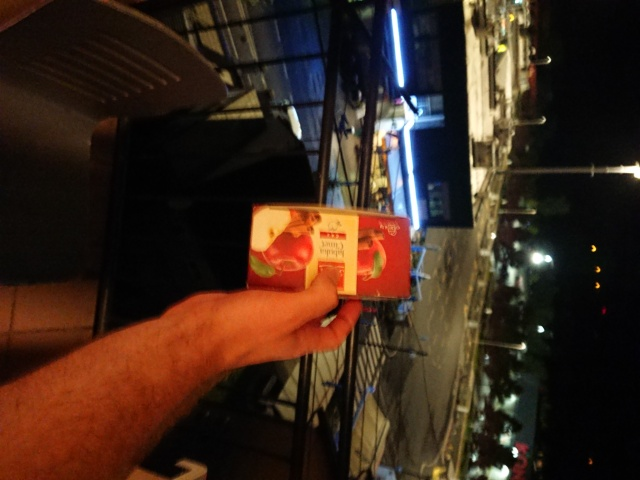Franck Apple Cinnamon Tea 60g: (243, 201, 415, 305)
